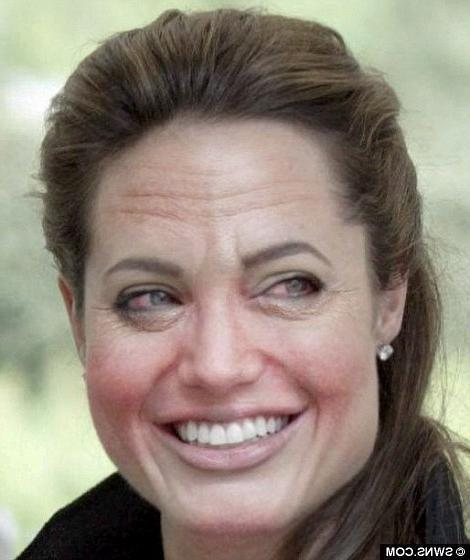Drunk: (107, 142, 371, 534)
